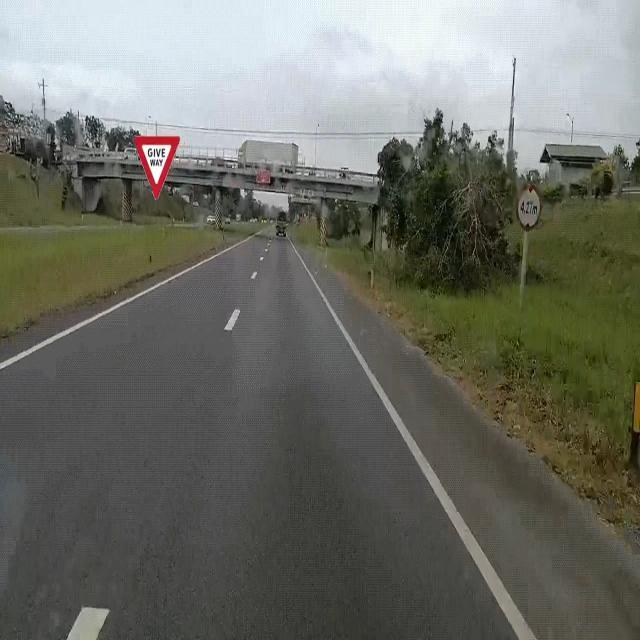Ceder-le-Passage: (131, 124, 185, 206)
